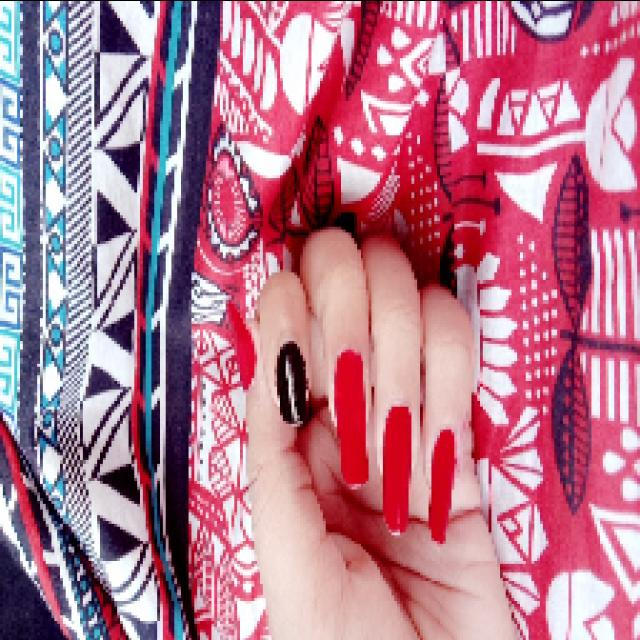Nail: (338, 350, 368, 483), (382, 405, 411, 532), (226, 299, 257, 389), (430, 428, 454, 542), (276, 340, 306, 426)
